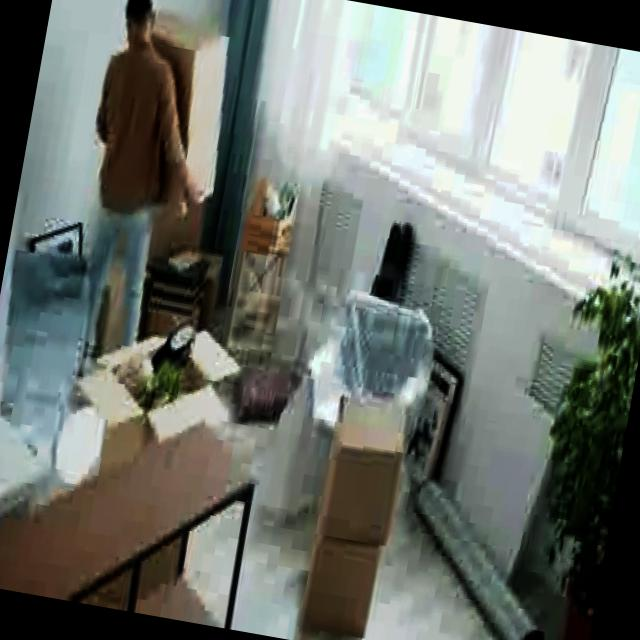Box: (316, 386, 408, 543), (300, 543, 371, 628)
